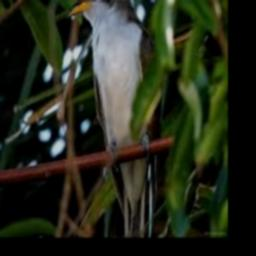Cuckoo: (69, 0, 161, 238)
